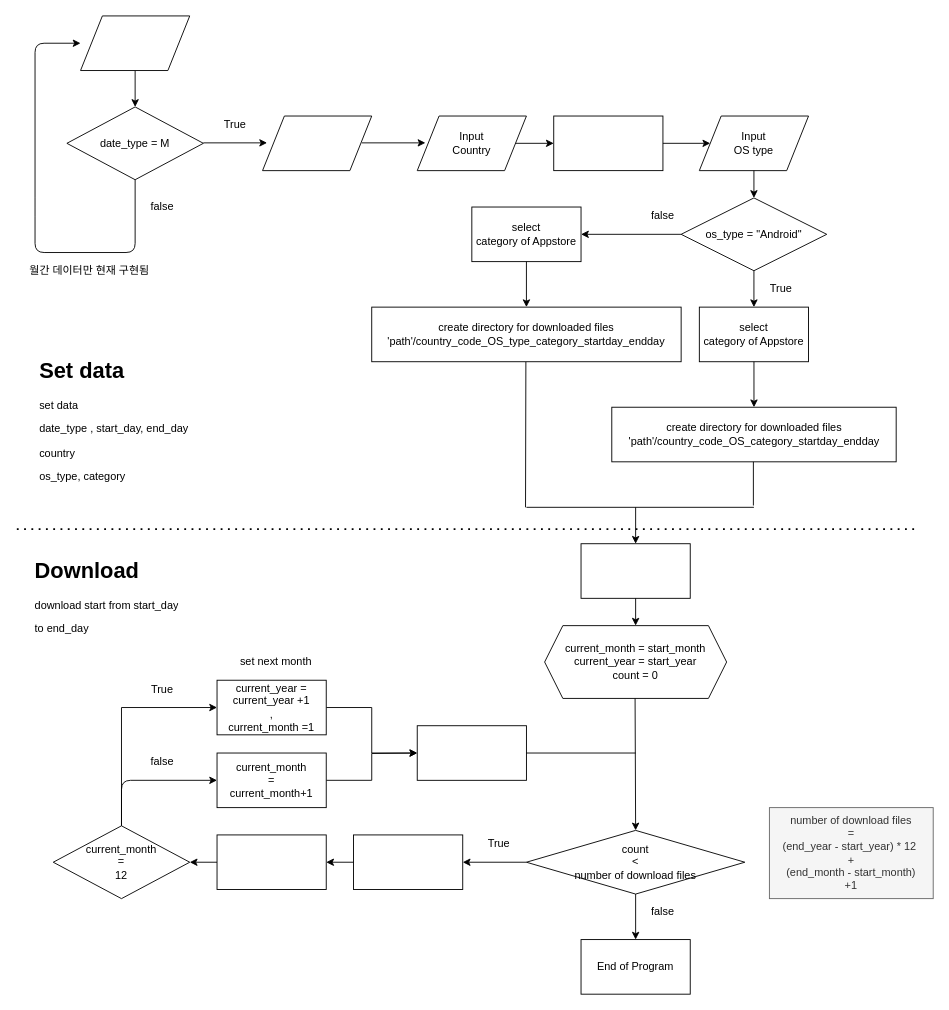
This 949x1010 diagram has some shape labels left out. The shapes that lost their labels are listed below. From the top down, each one's centre as x and y in pixels, then its label:
[135,43]: Input Date type
[317,143]: Input Start date End date
[608,143]: country_code Korea -> KR United States -> US Japan -> JP
[635,570]: make log file
[471,752]: close tab
[271,862]: open browser, click type, download csv file
[408,862]: count = count + 1
